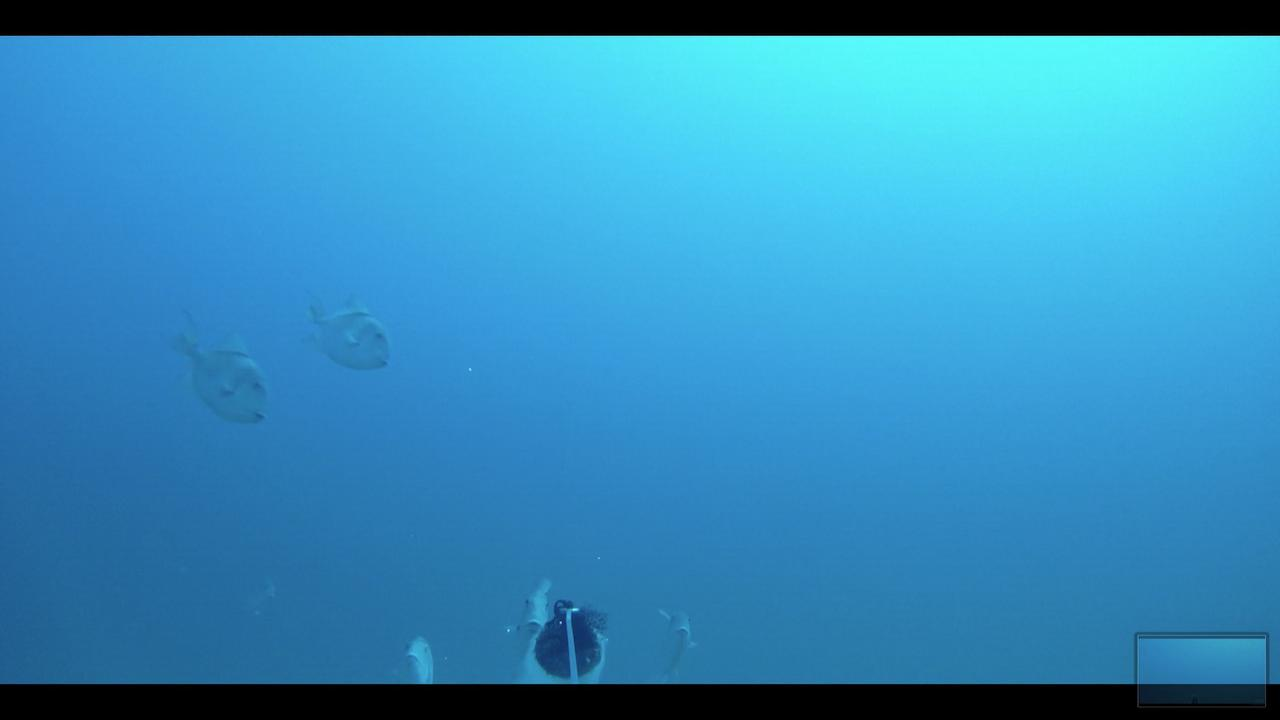balistes: (164, 304, 271, 428), (292, 282, 394, 374), (500, 571, 557, 659), (655, 604, 698, 684)
